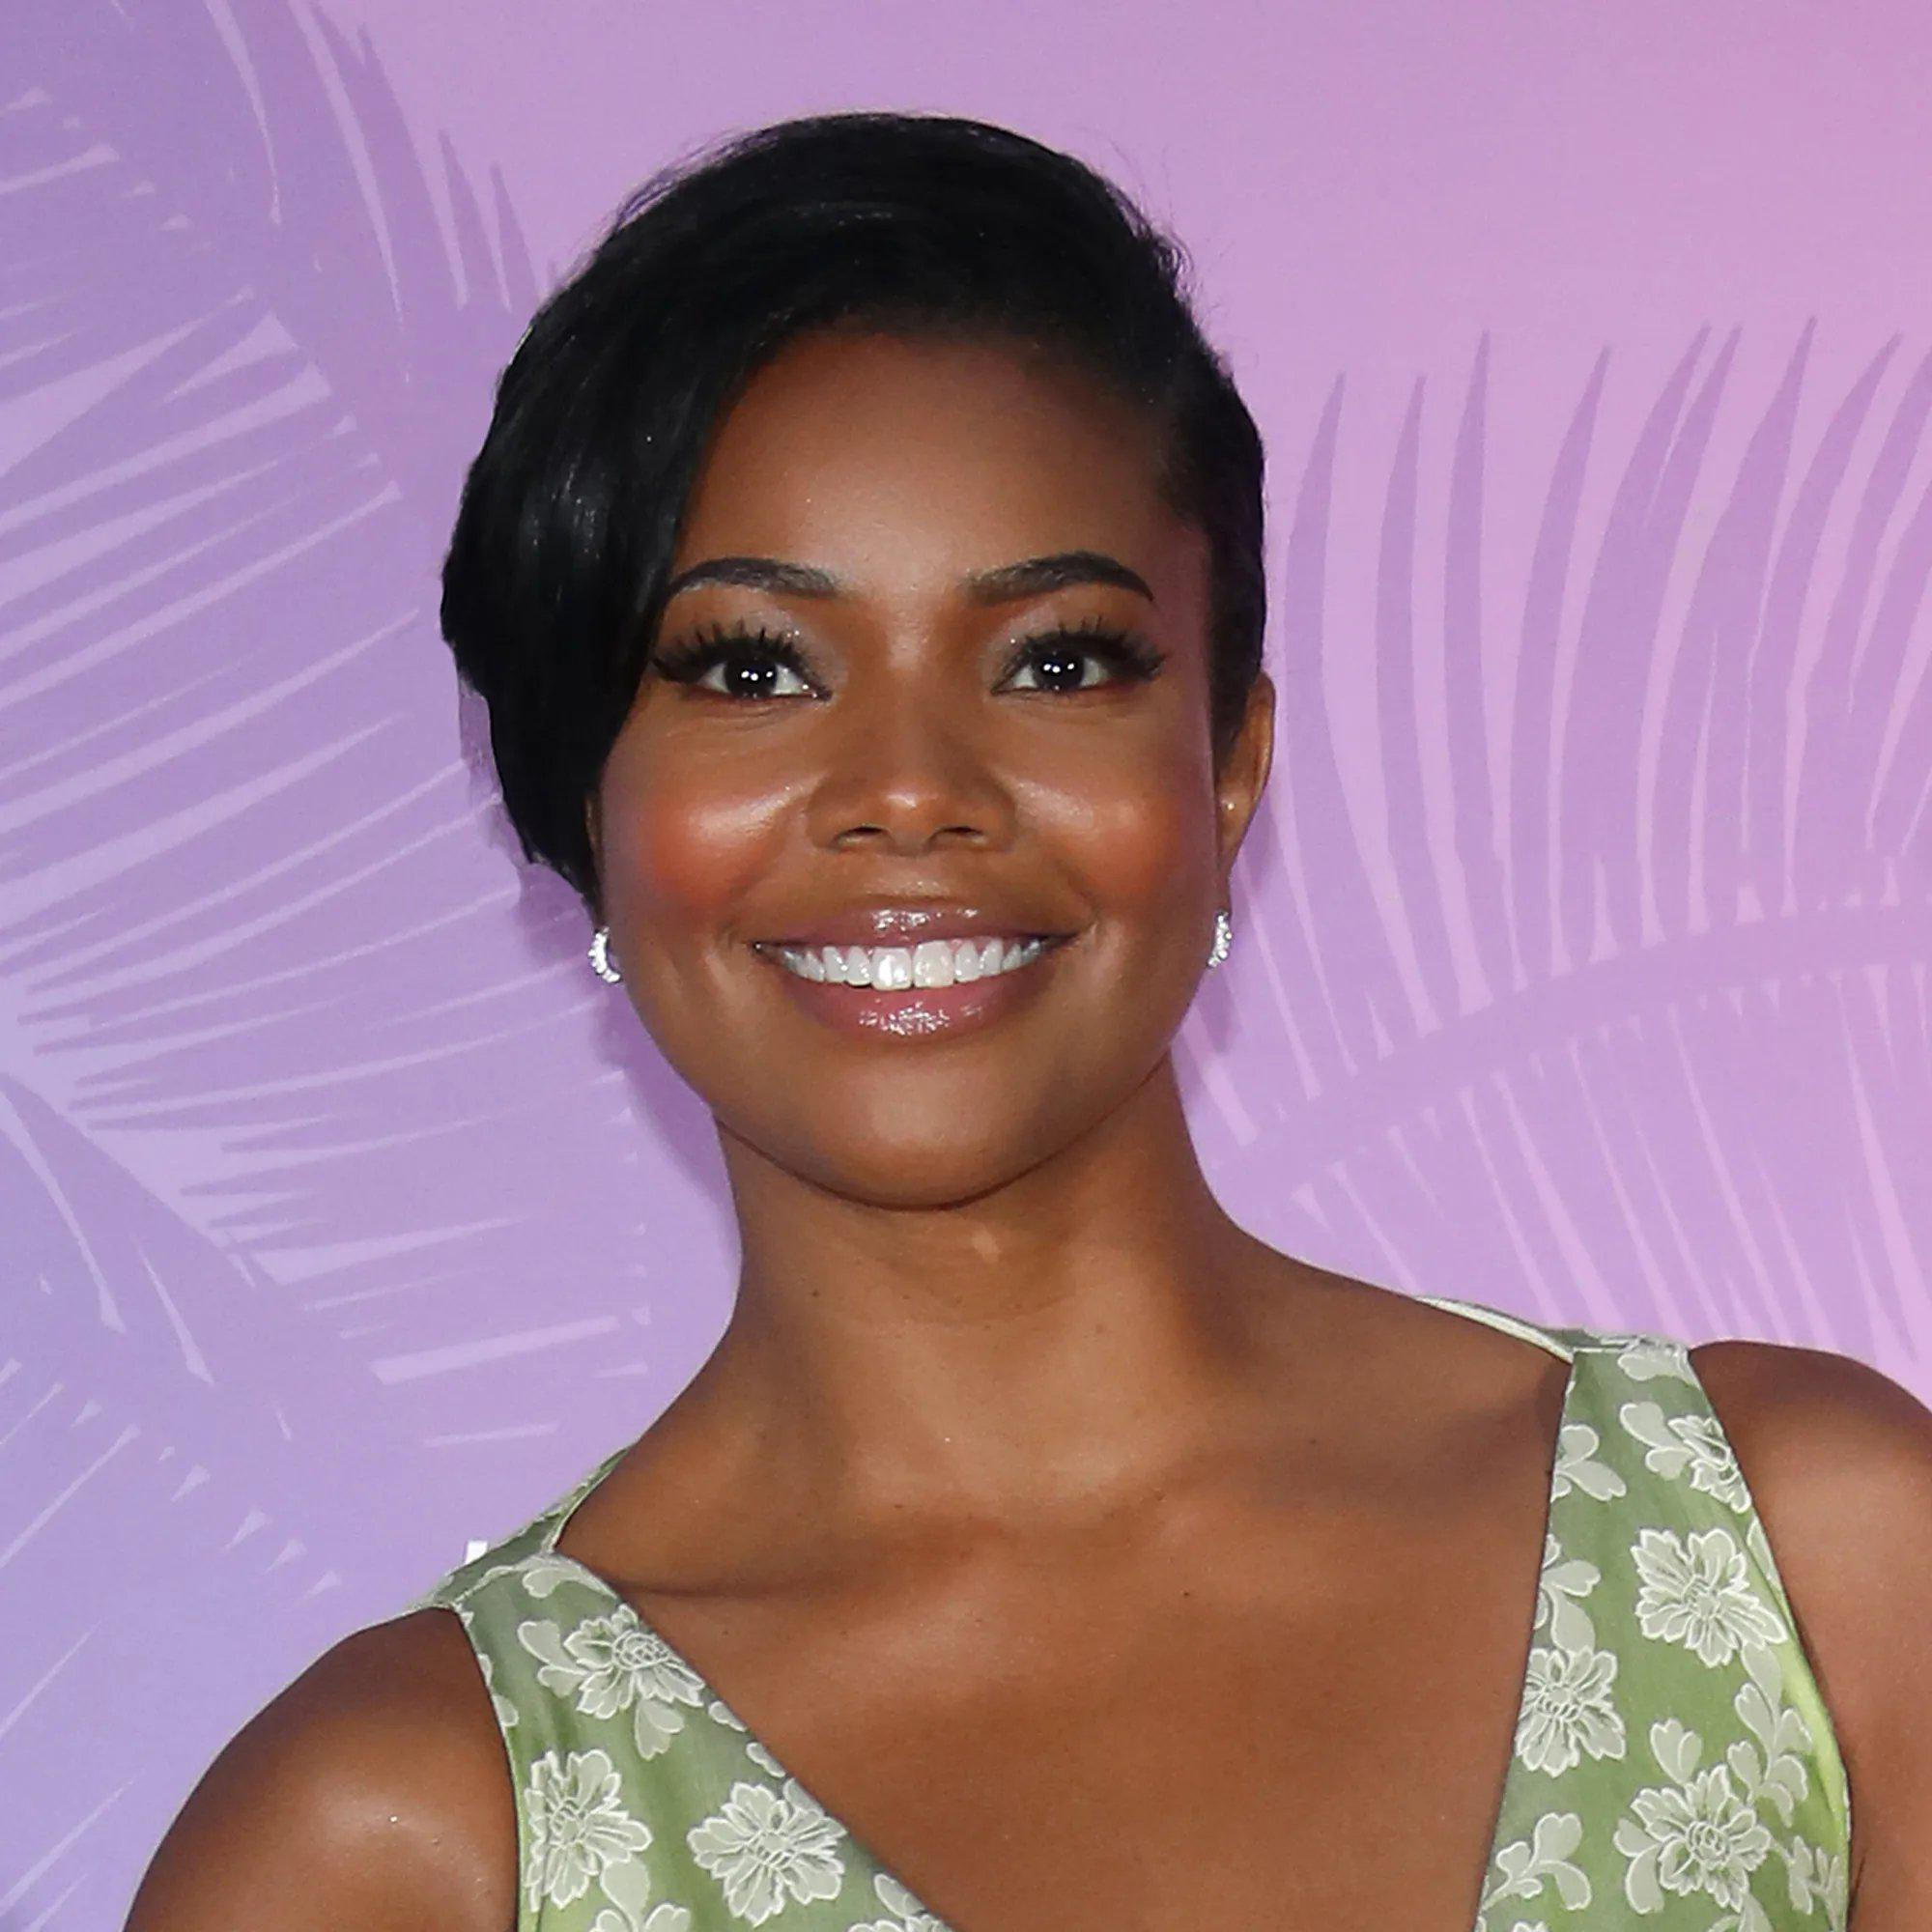Sober: (605, 382, 1224, 1141)
